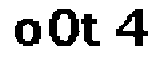0: (47, 5, 80, 48)
4: (113, 6, 153, 49)
o: (14, 18, 43, 48)
t: (80, 11, 103, 50)
